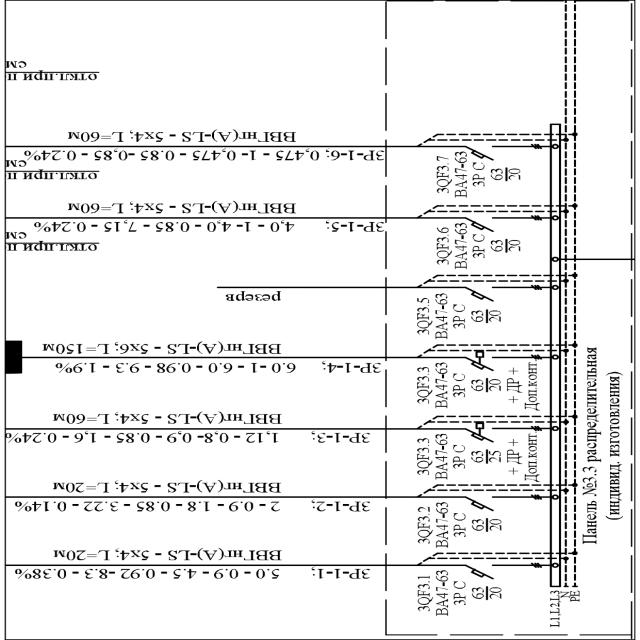-: (432, 432, 542, 485), (576, 343, 604, 547), (434, 361, 540, 411), (432, 292, 505, 340), (434, 501, 501, 551), (435, 569, 502, 618), (452, 152, 522, 198), (453, 223, 520, 270)
ITU: (474, 420, 485, 430), (475, 349, 485, 358)
QF: (462, 494, 499, 512), (462, 144, 498, 162), (464, 285, 501, 302), (463, 216, 499, 233), (464, 564, 500, 580)
